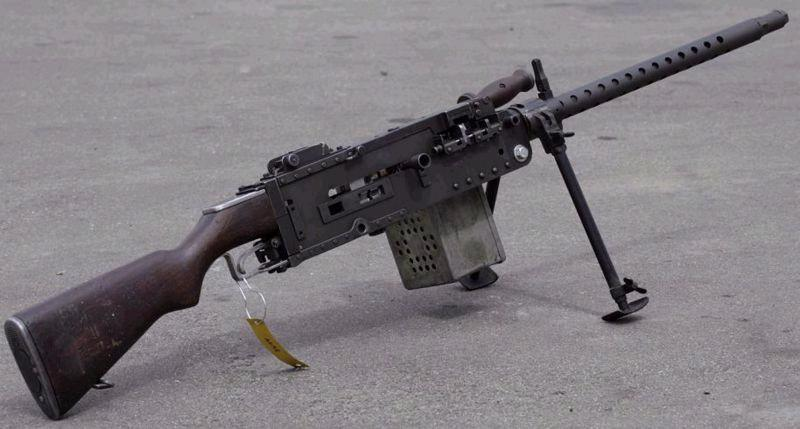rifle: (5, 12, 785, 419)
